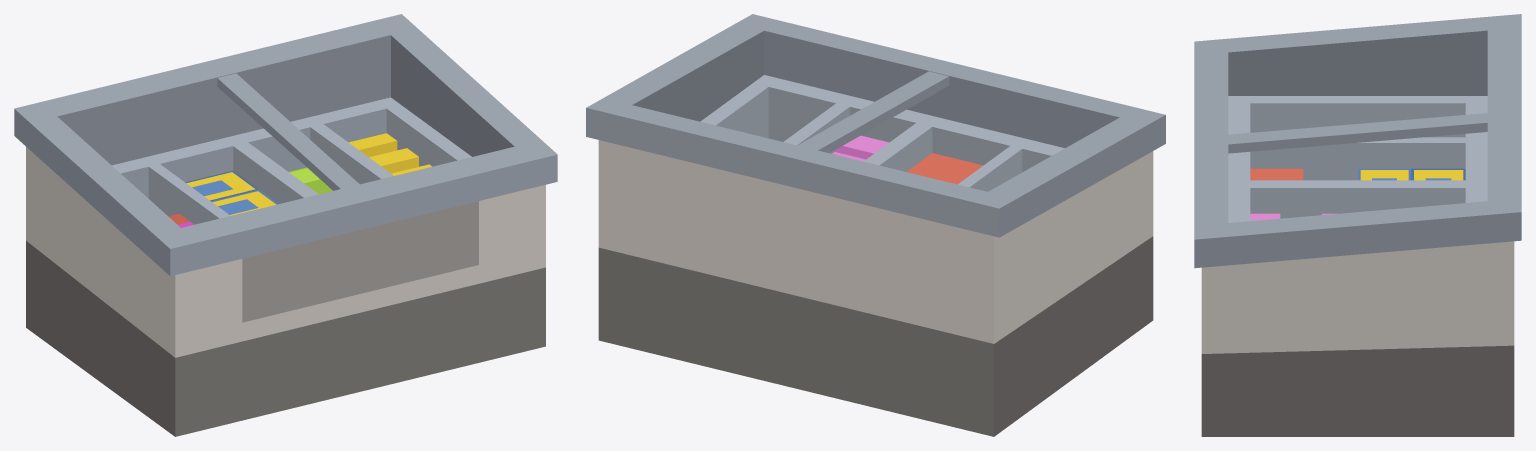
Rendered from Freezer2.glb.
3 renders of one model, left to right at view 1: azimuth 30°, elevation 25°; view 2: azimuth 150°, elevation 25°; view 3: azimuth 270°, elevation 25°, orthographic. The views are drawn at different scales.
Parts seen in each view (by area): view 1: SI_Prop_Freezer_02; view 2: SI_Prop_Freezer_02; view 3: SI_Prop_Freezer_02.
Part boxes in pixels (<box>): SI_Prop_Freezer_02: <box>14,14,557,436</box>; SI_Prop_Freezer_02: <box>586,14,1165,436</box>; SI_Prop_Freezer_02: <box>1194,14,1521,436</box>.
Bounding box in the file's own units: 0.0303 × 0.0163 × 0.0211.
1 material, 1 textured.
